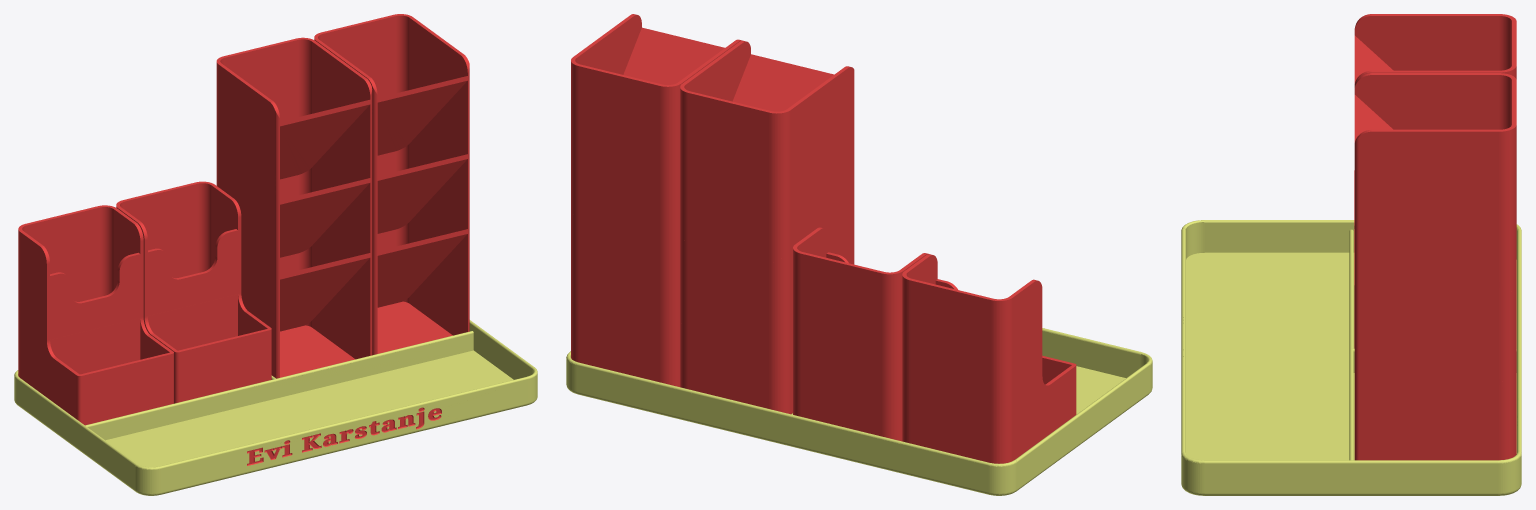
Rendered from DeskOrgan.glb.
3 renders of one model, left to right at view 1: azimuth 30°, elevation 25°; view 2: azimuth 150°, elevation 25°; view 3: azimuth 270°, elevation 25°, orthographic. The views are drawn at different scales.
Visible parts, largest first — view 1: Desk Organiser Small.001; view 2: Desk Organiser Small.001; view 3: Desk Organiser Small.001.
Part boxes in pixels (<box>): Desk Organiser Small.001: <box>14,14,537,495</box>; Desk Organiser Small.001: <box>566,14,1152,495</box>; Desk Organiser Small.001: <box>1181,14,1521,495</box>.
Size of the model in its own units: 2.46 by 1.72 by 1.46.
